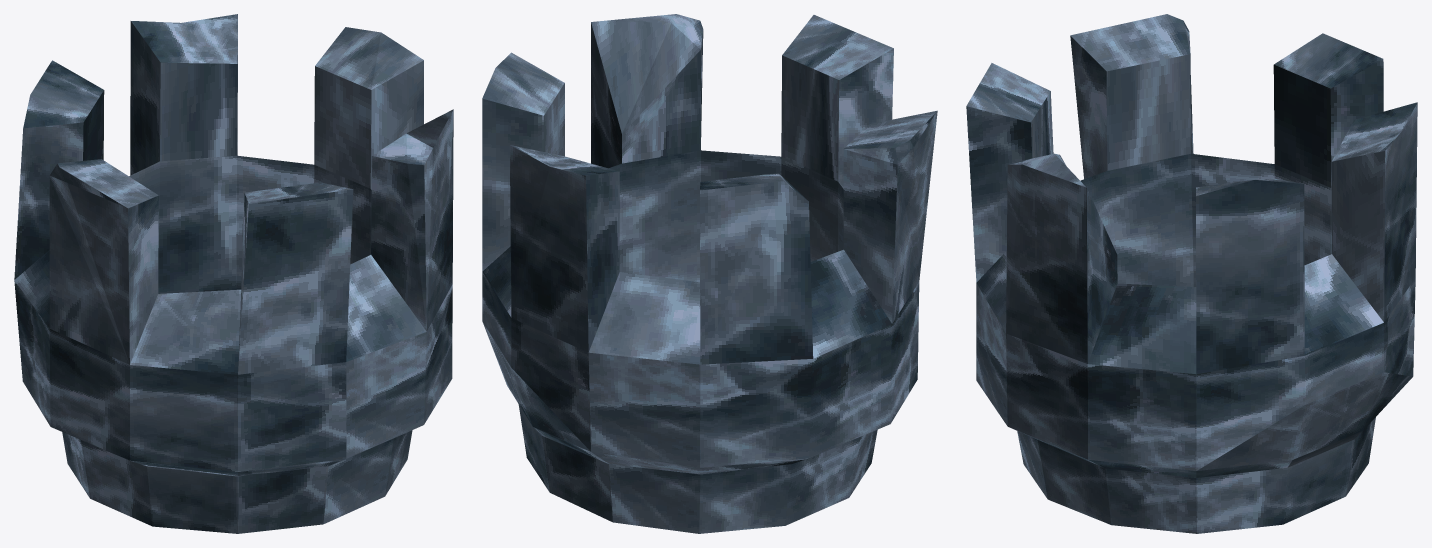
The model's file is item_castle_roof_topper_ice.glb.
The picture shows the model from 3 angles, left to right: view 1: azimuth 30°, elevation 25°; view 2: azimuth 150°, elevation 25°; view 3: azimuth 270°, elevation 25°; orthographic projection.
Visible parts, largest first — view 1: Krenelation; view 2: Krenelation; view 3: Krenelation.
Boxes of the visible parts, x1=… form: Krenelation: x1=14, y1=14, x2=453, y2=533; Krenelation: x1=482, y1=14, x2=937, y2=533; Krenelation: x1=966, y1=14, x2=1417, y2=533.
Size of the model in its own units: 1.66 by 1.54 by 1.7.
1 material, 1 textured.
